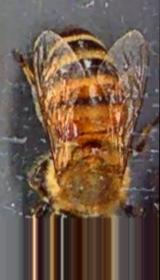varroa_mite: (48, 109, 90, 145)
